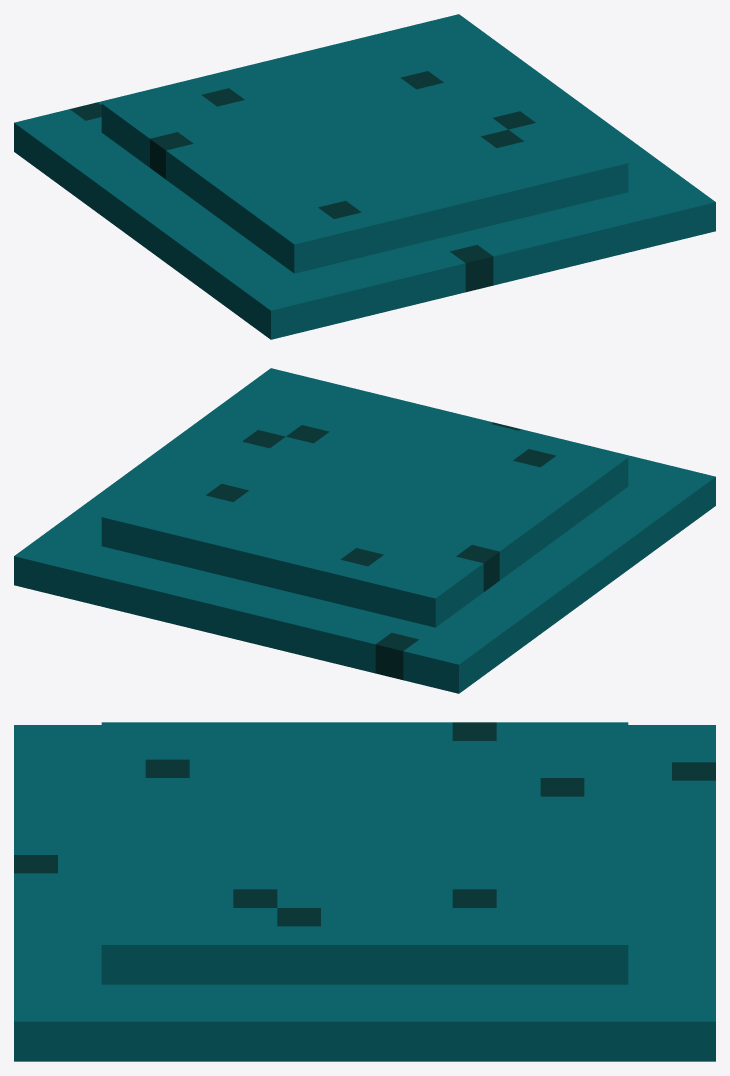
The model's file is platform-1.obj.
3 views of the same model, one above another, from view 1: azimuth 30°, elevation 25°; view 2: azimuth 150°, elevation 25°; view 3: azimuth 270°, elevation 25° (orthographic). The views are drawn at different scales.
Size of the model in its own units: 1.6 by 0.2 by 1.6.
1 material, 1 textured.
